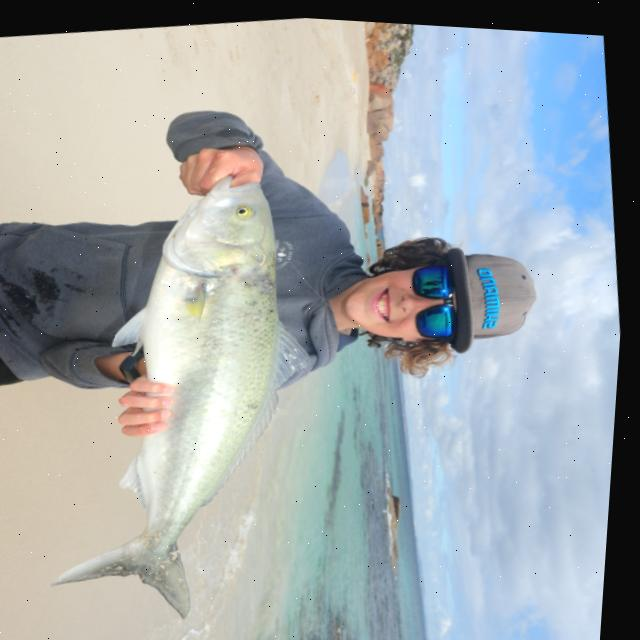Australian Salmon: (0, 155, 327, 640)
